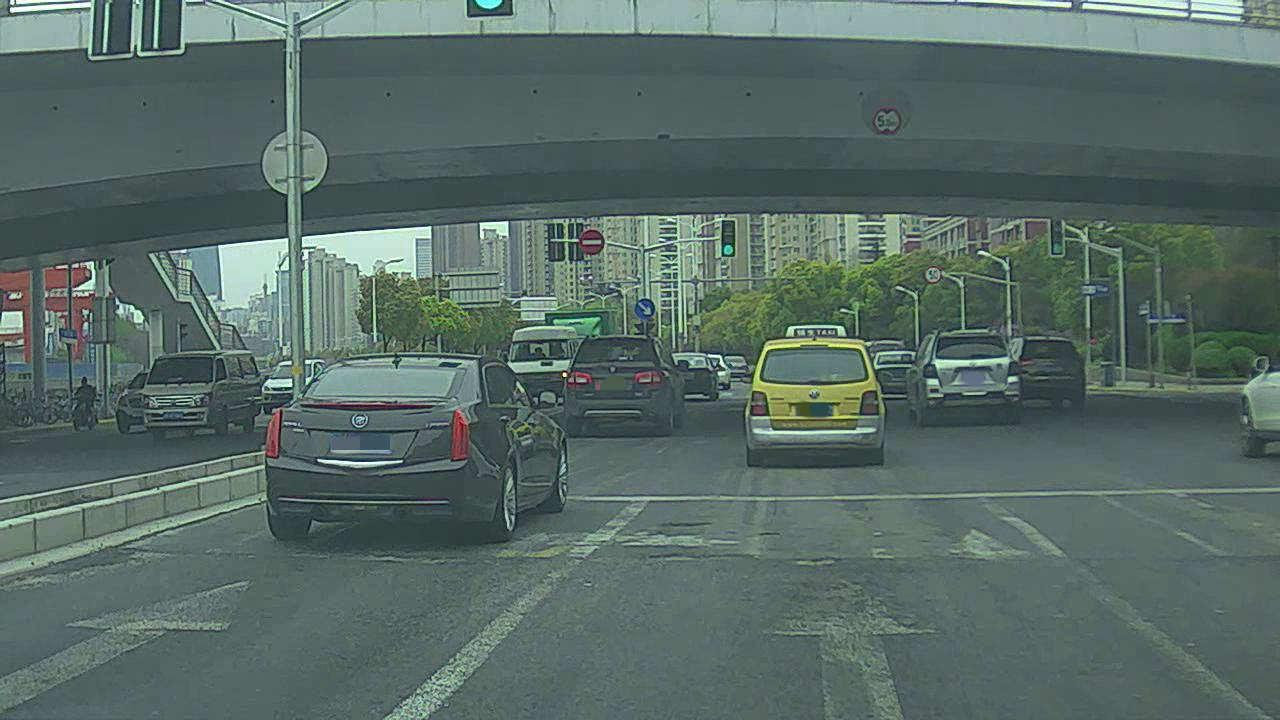traffic_light: (1049, 215, 1068, 259), (723, 219, 738, 259)
